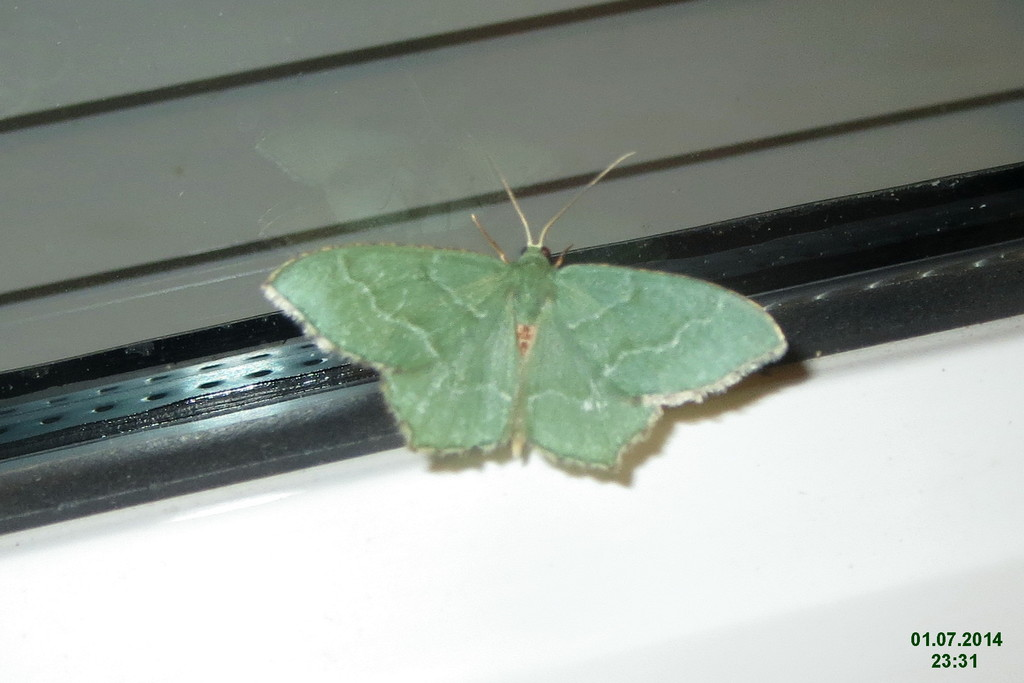Butterfly: (254, 171, 806, 493)
